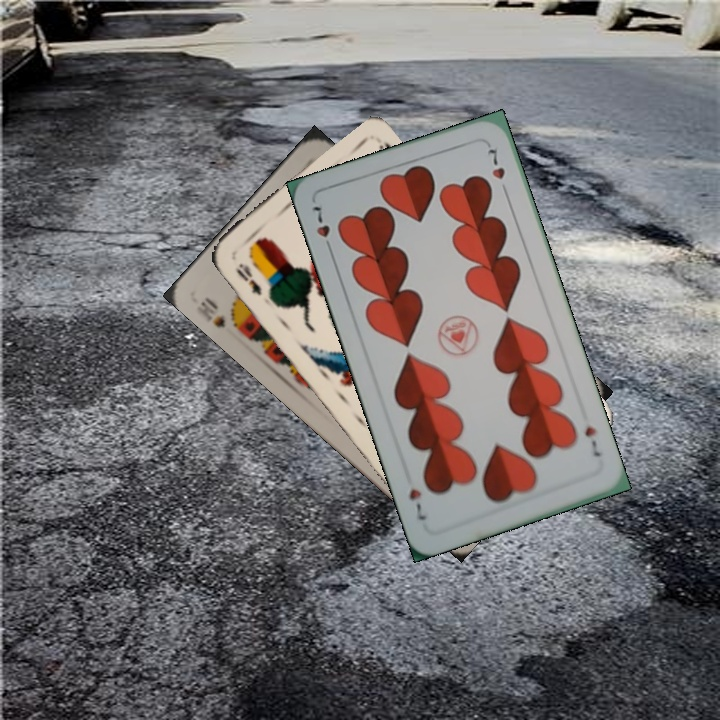EO: (232, 259, 265, 298)
H7: (308, 202, 336, 257), (580, 422, 603, 460)
S10: (192, 293, 244, 334)
